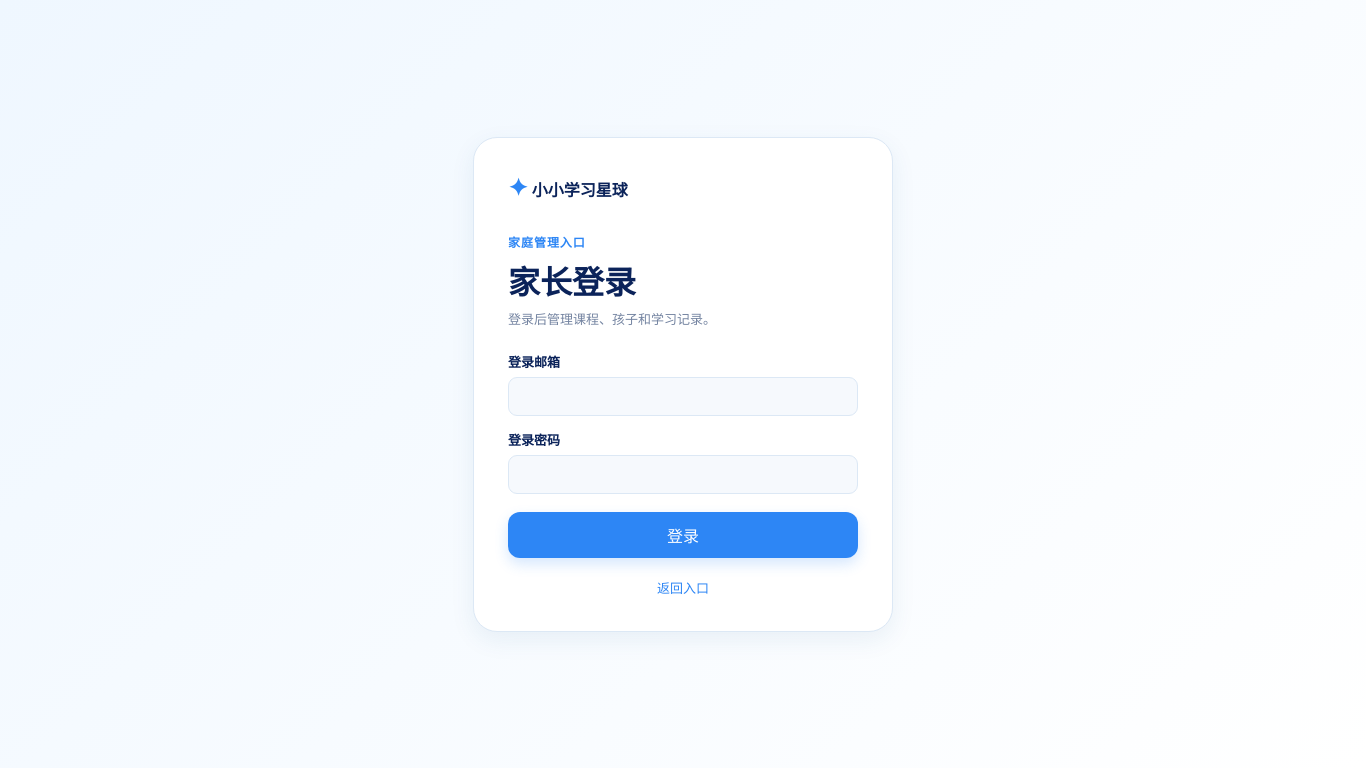
Test case: logs in and returns to the requested private route
The image size is (1366, 768).
Type "parent@example.com" into the field labelled "登录邮箱" at (683, 396), box [508,376,858,416]
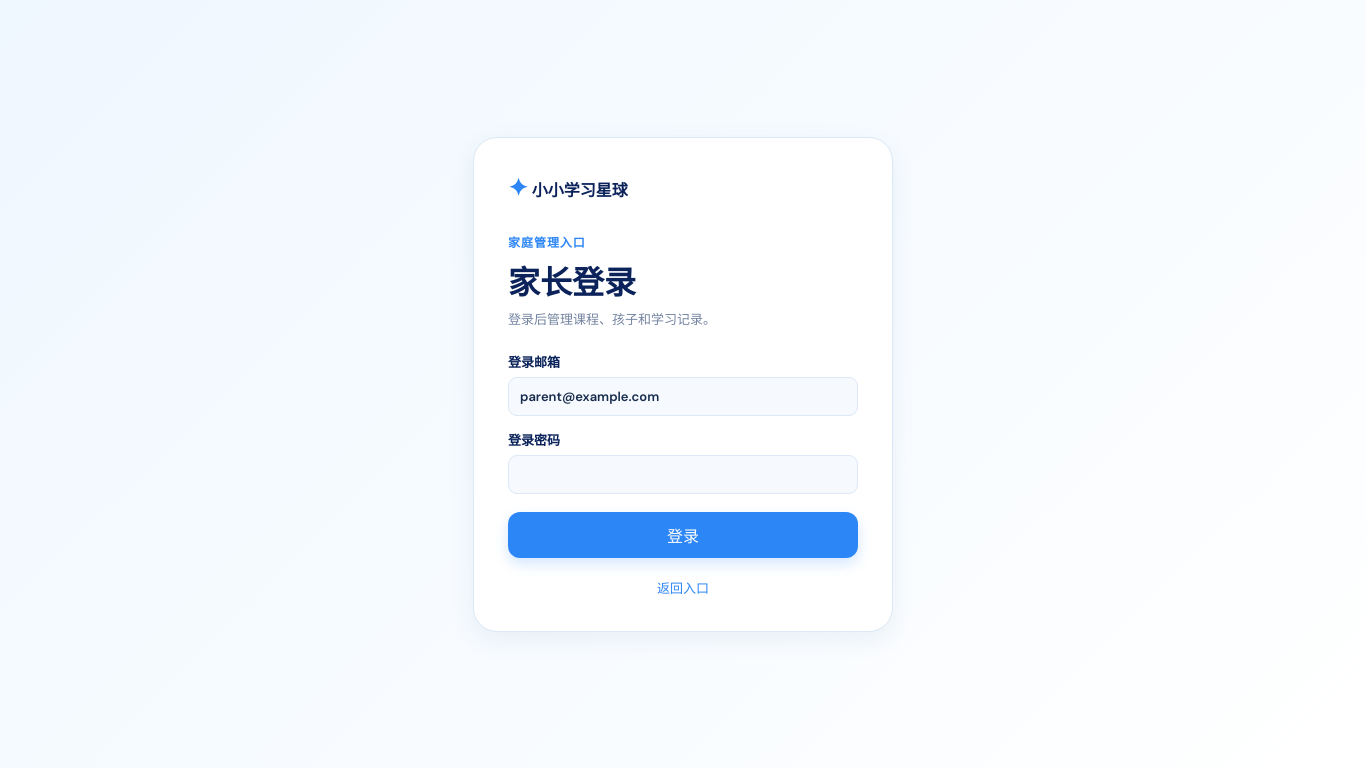
Type "Password123!" into the password field labelled "登录密码" at (683, 474), box [508,454,858,494]
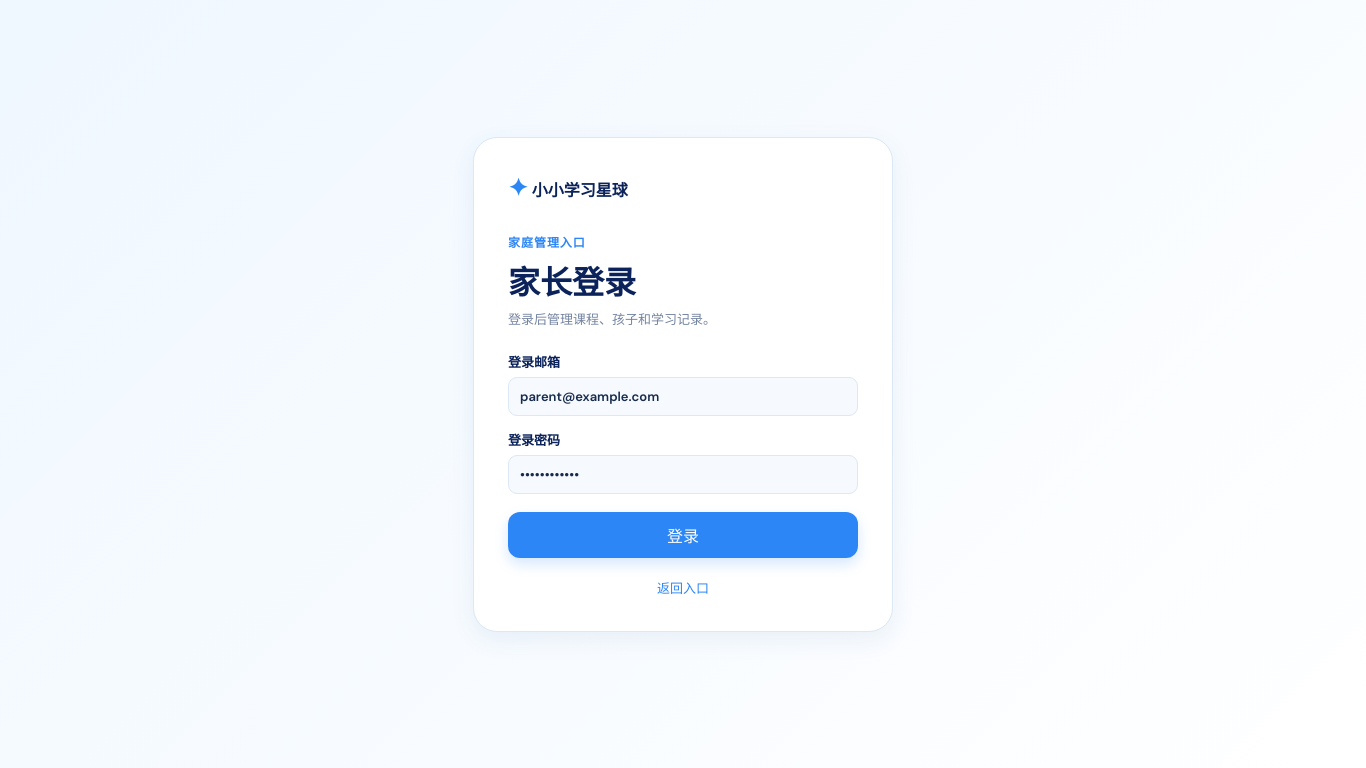
Click the button "登录" at (683, 534), box [508,512,858,558]
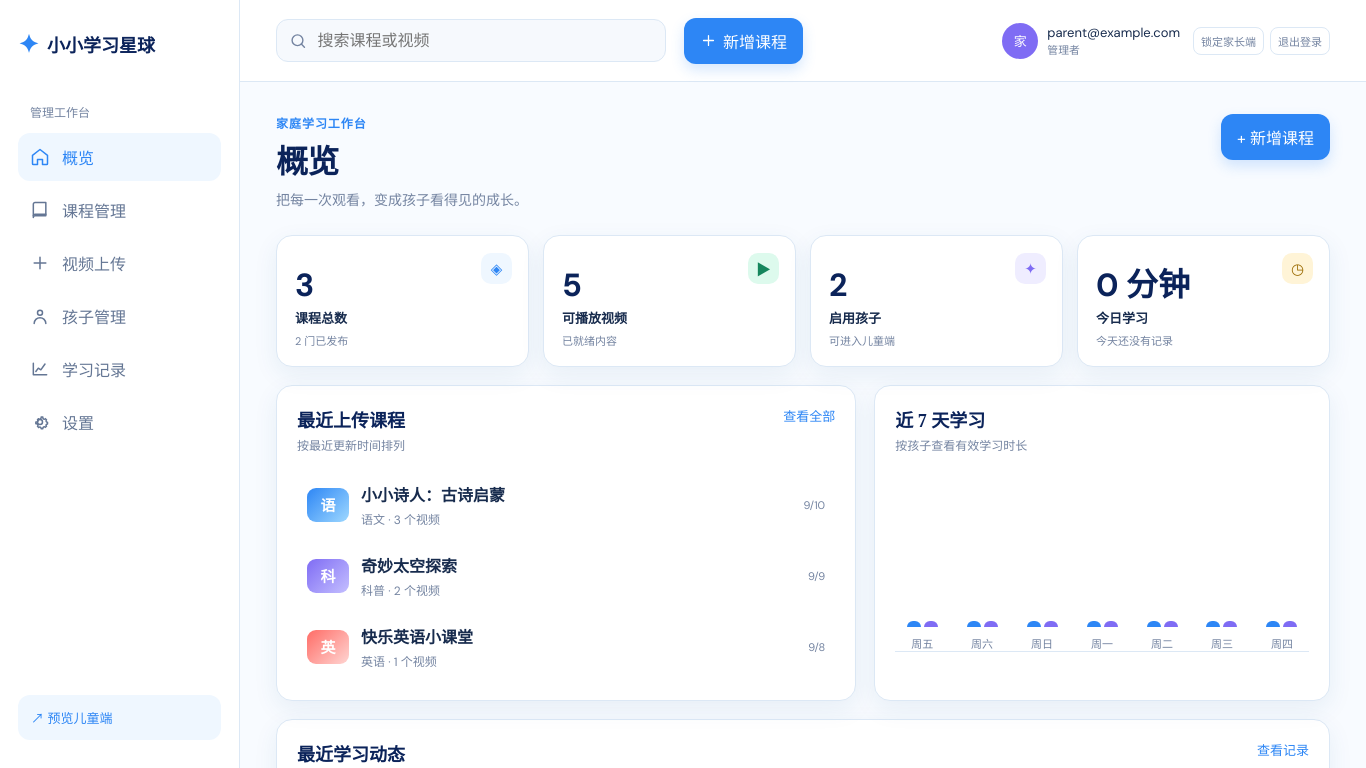
Result: the heading "概览" is shown at [276,144,339,180]
